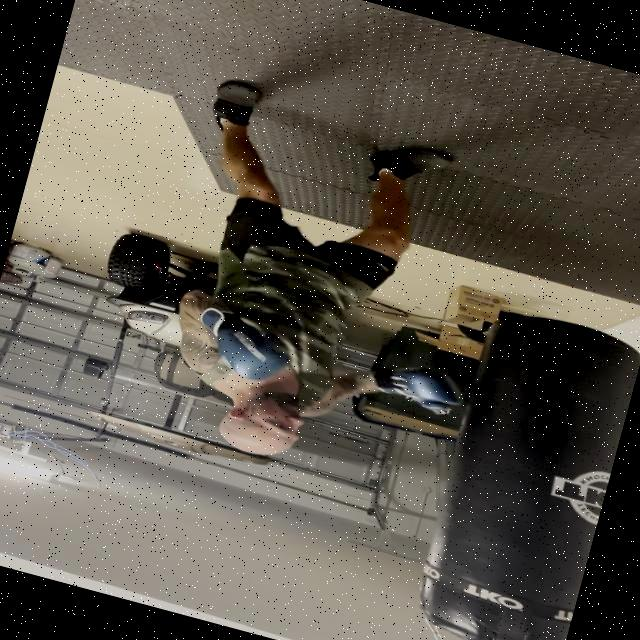punch: (139, 285, 487, 527)
